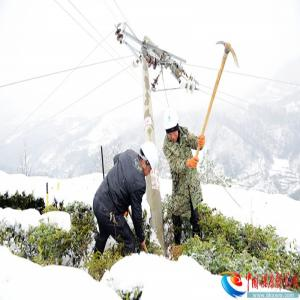white: (140, 143, 160, 176), (163, 108, 181, 143)
